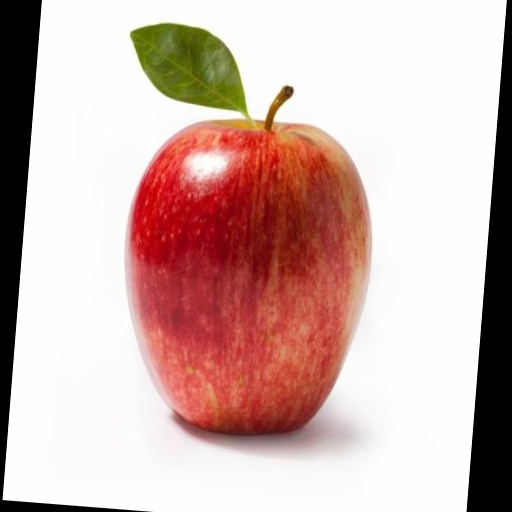fruit: (125, 88, 370, 434)
